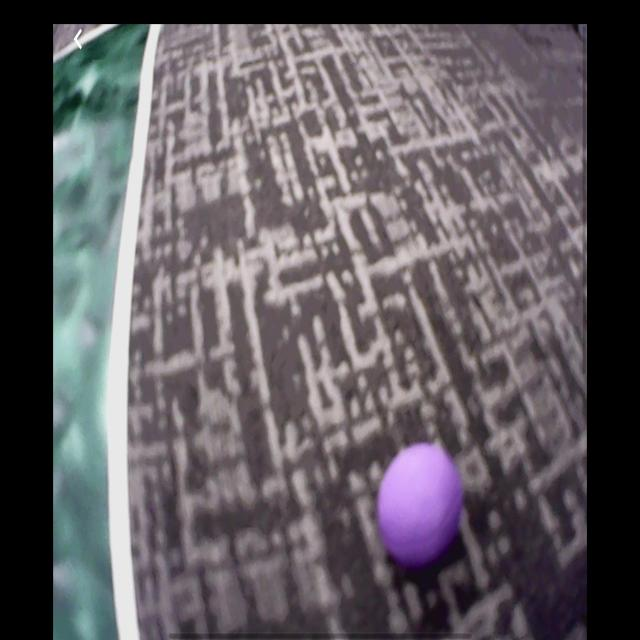ball: (377, 449, 462, 562)
